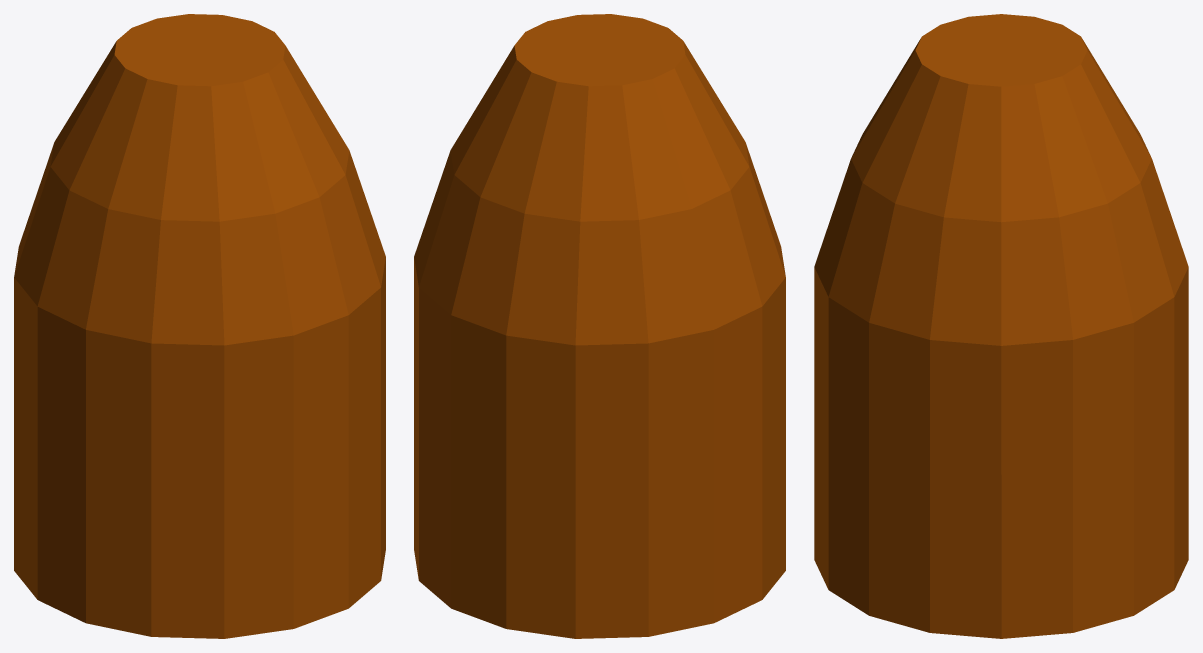
File: 9x19Parabelum.fbx
3 renders of one model, left to right at view 1: azimuth 30°, elevation 25°; view 2: azimuth 150°, elevation 25°; view 3: azimuth 270°, elevation 25°, orthographic.
Visible parts, largest first — view 1: Cylinder; view 2: Cylinder; view 3: Cylinder.
Boxes of the visible parts, <box> form: Cylinder: <box>14,14,385,638</box>; Cylinder: <box>414,14,785,638</box>; Cylinder: <box>814,14,1188,638</box>.
Size of the model in its own units: 1.15 by 1.78 by 1.15.
